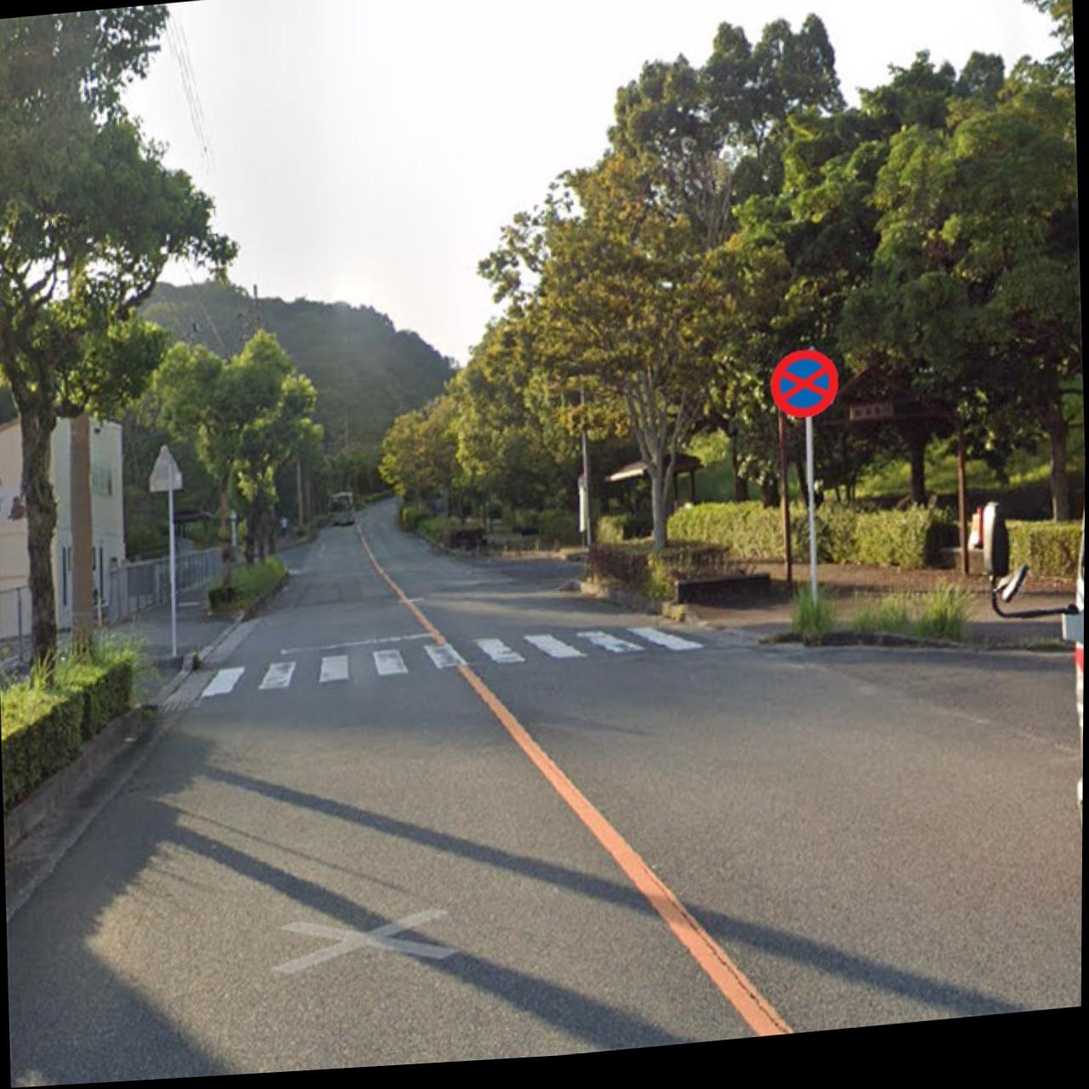stop_sign: (766, 344, 845, 421)
